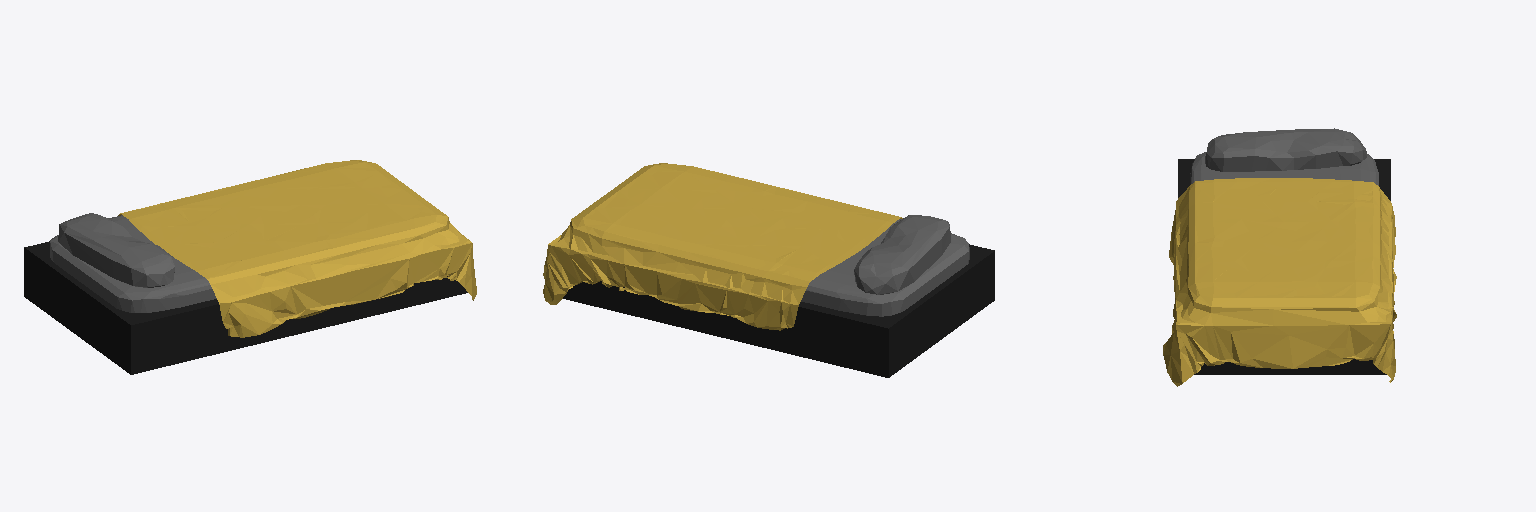
Rendered from bed.obj.
3 renders of one model, left to right at view 1: azimuth 30°, elevation 25°; view 2: azimuth 150°, elevation 25°; view 3: azimuth 270°, elevation 25°, orthographic.
Parts seen in each view (by area): view 1: Cube.006_Cube.007, Cube.000_Cube.012; view 2: Cube.006_Cube.007, Cube.000_Cube.012; view 3: Cube.006_Cube.007, Cube.000_Cube.012.
Boxes of the visible parts, x1=… form: Cube.006_Cube.007: x1=24, y1=160, x2=476, y2=374; Cube.000_Cube.012: x1=58, y1=213, x2=174, y2=287; Cube.006_Cube.007: x1=543, y1=163, x2=994, y2=377; Cube.000_Cube.012: x1=854, y1=215, x2=950, y2=294; Cube.006_Cube.007: x1=1163, y1=152, x2=1396, y2=386; Cube.000_Cube.012: x1=1205, y1=128, x2=1366, y2=171.
Size of the model in its own units: 2.15 by 0.5949 by 1.24.